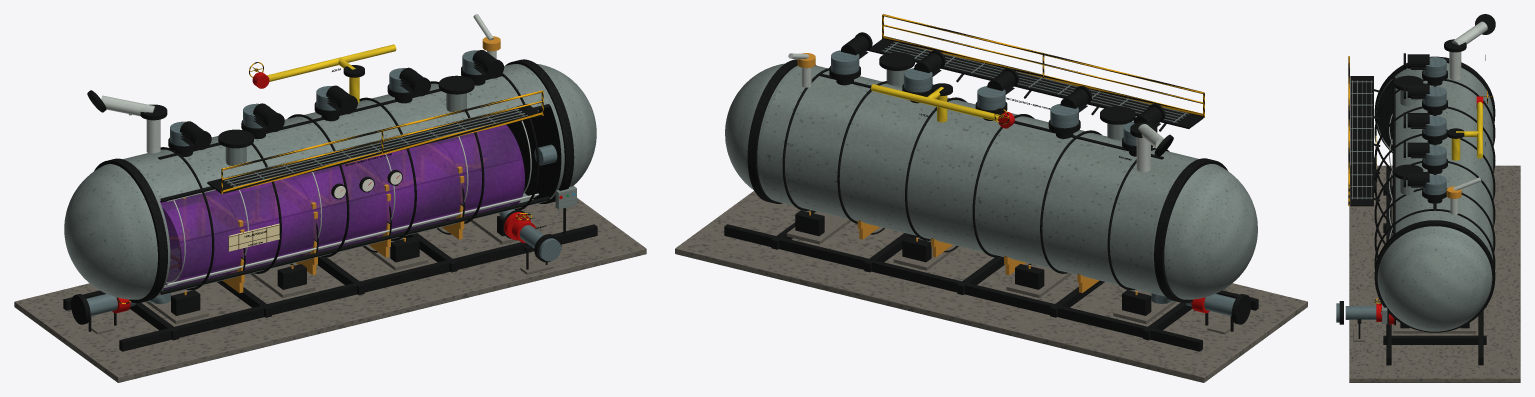
Rendered from level7_autoclave_industrial_uv.glb.
The picture shows the model from 3 angles, left to right: view 1: azimuth 30°, elevation 25°; view 2: azimuth 150°, elevation 25°; view 3: azimuth 270°, elevation 25°; orthographic projection. The views are drawn at different scales.
Visible parts, largest first — view 1: L7_Autoclave_Concrete_ServicePad, L7_XRay_InnerSlurry_Surface, L7_Autoclave_PressureShell, L7_Autoclave_EndCap_Left, L7_Skid_Longitudinal_IBeam_-1.7, L7_Autoclave_Right_HeavyFlange, L7_Autoclave_EndCap_Right, L7_TopDrive_ServicePlatform_Grating_Frame, L7_Autoclave_Left_HeavyFlange, L7_Cutaway_ThickWall_Lip_01, L7_XRay_OpenLiquidCutFace, L7_TopDrive_ServicePlatform_OuterRail_ToeBoard (+20 smaller); view 2: L7_Autoclave_PressureShell, L7_Autoclave_Concrete_ServicePad, L7_Autoclave_EndCap_Left, L7_Skid_Longitudinal_IBeam_+1.7, L7_Autoclave_EndCap_Right, L7_TopDrive_ServicePlatform_Grating_Frame, L7_Autoclave_Left_HeavyFlange, L7_Autoclave_Right_HeavyFlange, L7_TopDrive_ServicePlatform_OuterRail_ToeBoard, Pipe_Autoclave_AcidInject_Header, L7_TopDrive_ServicePlatform_OuterRail_TopRail, L7_Saddle_GroutPad_+5.8 (+19 smaller); view 3: L7_Autoclave_Concrete_ServicePad, L7_Autoclave_EndCap_Right, L7_Autoclave_PressureShell, L7_TopDrive_ServicePlatform_Grating_Frame, L7_Autoclave_Right_HeavyFlange, L7_Autoclave_Left_HeavyFlange, L7_Skid_Cross_IBeam_+6.6, L7_Cutaway_ThickWall_Lip_00, L7_Skid_Longitudinal_IBeam_-1.7, L7_Saddle_GroutPad_+5.8, L7_Autoclave_Dark_StiffenerBand_05, Pipe_Autoclave_LiquidUnderflow_ToTransfer (+25 smaller).
Boxes of the visible parts, x1,y1,x2,y2 form: L7_Autoclave_Concrete_ServicePad: [14, 198, 646, 382]; L7_XRay_InnerSlurry_Surface: [160, 124, 524, 289]; L7_Autoclave_PressureShell: [123, 64, 550, 296]; L7_Autoclave_EndCap_Left: [64, 160, 170, 299]; L7_Skid_Longitudinal_IBeam_-1.7: [119, 224, 597, 351]; L7_Autoclave_Right_HeavyFlange: [505, 59, 574, 203]; L7_Autoclave_EndCap_Right: [511, 64, 596, 201]; L7_TopDrive_ServicePlatform_Grating_Frame: [207, 104, 539, 193]; L7_Autoclave_Left_HeavyFlange: [94, 158, 167, 303]; L7_Cutaway_ThickWall_Lip_01: [160, 196, 549, 294]; L7_XRay_OpenLiquidCutFace: [180, 158, 521, 280]; L7_TopDrive_ServicePlatform_OuterRail_ToeBoard: [223, 112, 542, 193]; L7_Autoclave_PressureShell: [760, 65, 1198, 296]; L7_Autoclave_Concrete_ServicePad: [675, 191, 1307, 382]; L7_Autoclave_EndCap_Left: [1151, 160, 1257, 299]; L7_Skid_Longitudinal_IBeam_+1.7: [724, 224, 1202, 351]; L7_Autoclave_EndCap_Right: [725, 63, 799, 201]; L7_TopDrive_ServicePlatform_Grating_Frame: [868, 39, 1203, 128]; L7_Autoclave_Left_HeavyFlange: [1154, 158, 1228, 303]; L7_Autoclave_Right_HeavyFlange: [747, 59, 816, 203]; L7_TopDrive_ServicePlatform_OuterRail_ToeBoard: [883, 36, 1202, 116]; Pipe_Autoclave_AcidInject_Header: [871, 84, 1000, 121]; L7_TopDrive_ServicePlatform_OuterRail_TopRail: [882, 14, 1204, 93]; L7_Saddle_GroutPad_+5.8: [786, 211, 851, 244]; L7_Autoclave_Concrete_ServicePad: [1349, 165, 1520, 382]; L7_Autoclave_EndCap_Right: [1377, 226, 1492, 331]; L7_Autoclave_PressureShell: [1395, 64, 1493, 259]; L7_TopDrive_ServicePlatform_Grating_Frame: [1350, 76, 1373, 206]; L7_Autoclave_Right_HeavyFlange: [1374, 220, 1495, 332]; L7_Autoclave_Left_HeavyFlange: [1374, 56, 1495, 152]; L7_Skid_Cross_IBeam_+6.6: [1383, 335, 1486, 344]; L7_Cutaway_ThickWall_Lip_00: [1392, 77, 1395, 235]; L7_Skid_Longitudinal_IBeam_-1.7: [1386, 166, 1391, 365]; L7_Saddle_GroutPad_+5.8: [1393, 318, 1476, 333]; L7_Autoclave_Dark_StiffenerBand_05: [1374, 209, 1495, 268]; Pipe_Autoclave_LiquidUnderflow_ToTransfer: [1345, 306, 1376, 319].
Size of the model in its own units: 18.8 by 7.39 by 6.88.
Materials: 1 (1 with a texture image).
